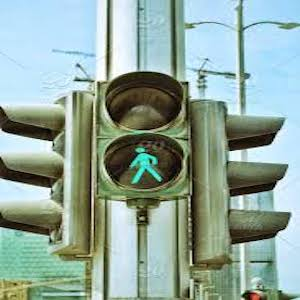green: (117, 138, 166, 195)
